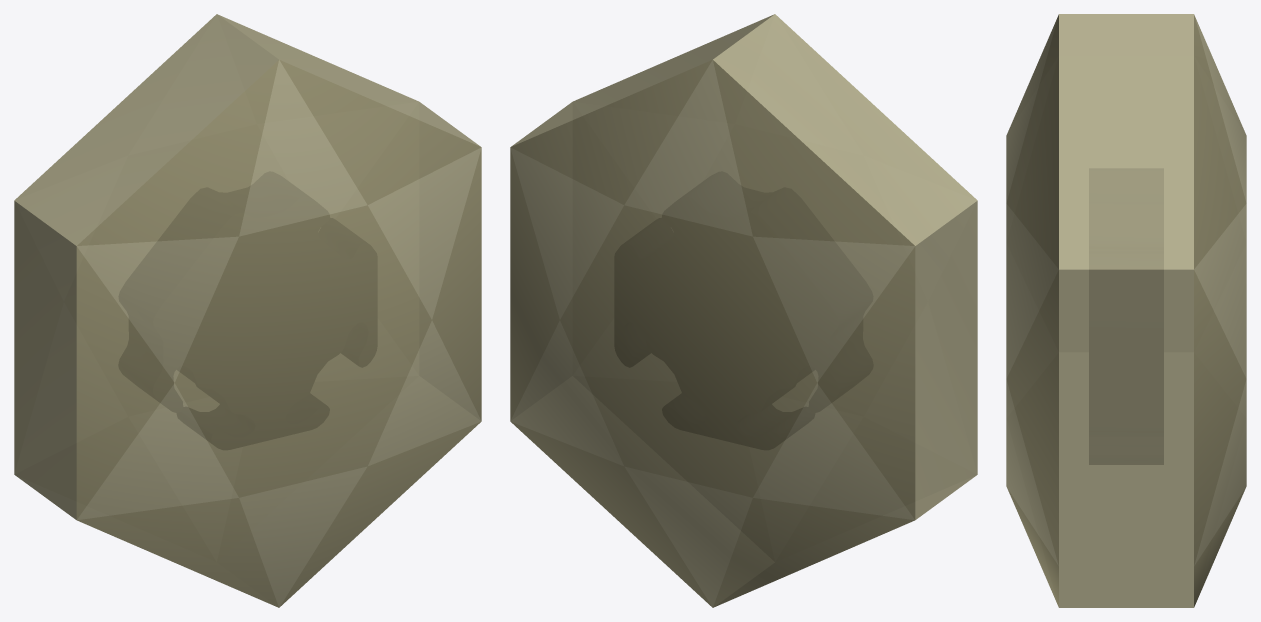
The picture shows the model from 3 angles, left to right: view 1: azimuth 30°, elevation 25°; view 2: azimuth 150°, elevation 25°; view 3: azimuth 270°, elevation 25°; orthographic projection. The views are drawn at different scales.
Visible parts, largest first — view 1: body; view 2: body; view 3: body.
Part boxes in pixels (left/top/right/bottom): body: left=14, top=14, right=481, bottom=607; body: left=510, top=14, right=977, bottom=607; body: left=1006, top=14, right=1246, bottom=607.
Size of the model in its own units: 0.1933 by 0.25 by 0.0916.
Materials: 2 (2 with a texture image).
